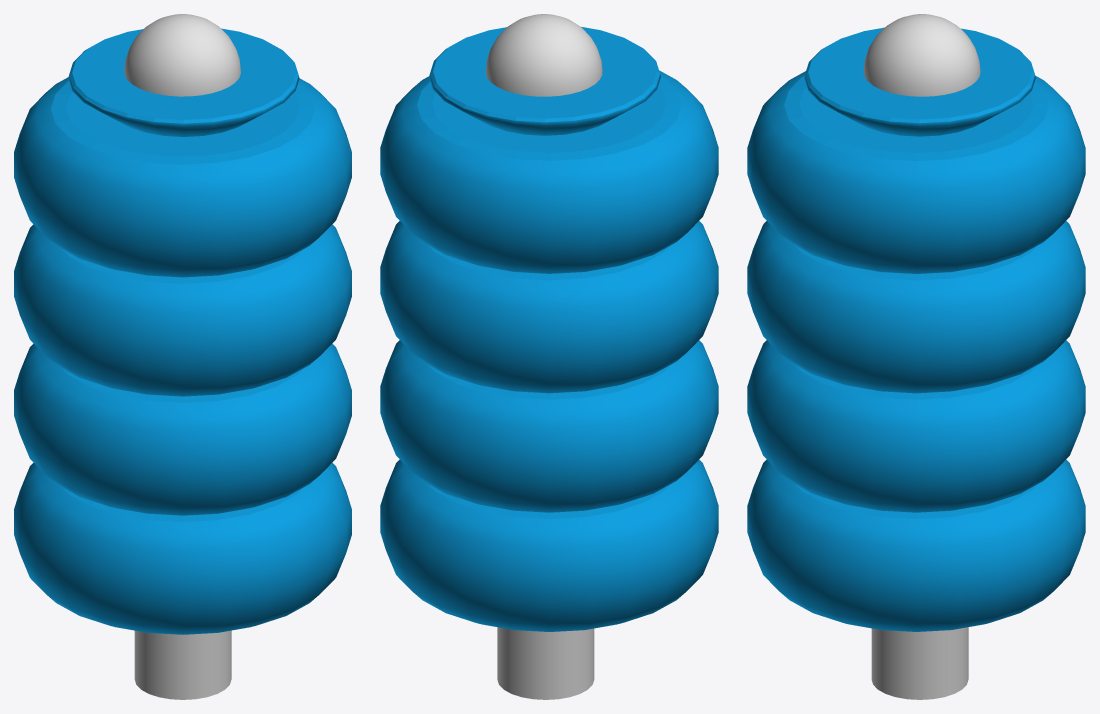
The model's file is Bumpybarrier.FBX.
3 views of the same model, side by side, from view 1: azimuth 30°, elevation 25°; view 2: azimuth 150°, elevation 25°; view 3: azimuth 270°, elevation 25° (orthographic).
Parts seen in each view (by area): view 1: Cylinder070, Cylinder071, Cylinder072, Cylinder073, Cylinder069, Sphere007, Cylinder068; view 2: Cylinder070, Cylinder072, Cylinder073, Cylinder071, Cylinder069, Sphere007, Cylinder068; view 3: Cylinder070, Cylinder073, Cylinder072, Cylinder071, Cylinder069, Sphere007, Cylinder068.
Boxes of the visible parts, box(x1,y1,x2,y2) form: Cylinder070: box(14, 77, 351, 277); Cylinder071: box(14, 224, 351, 396); Cylinder072: box(14, 343, 351, 515); Cylinder073: box(14, 462, 351, 634); Cylinder069: box(68, 28, 299, 136); Sphere007: box(124, 14, 240, 96); Cylinder068: box(134, 630, 231, 699); Cylinder070: box(380, 70, 718, 273); Cylinder072: box(380, 340, 718, 512); Cylinder073: box(380, 459, 718, 631); Cylinder071: box(380, 221, 718, 393); Cylinder069: box(429, 27, 660, 135); Sphere007: box(485, 14, 602, 96); Cylinder068: box(497, 627, 594, 699); Cylinder070: box(747, 71, 1085, 273); Cylinder073: box(747, 459, 1085, 631); Cylinder072: box(747, 340, 1085, 512); Cylinder071: box(747, 221, 1085, 393); Cylinder069: box(804, 27, 1035, 136); Sphere007: box(863, 14, 980, 96); Cylinder068: box(871, 627, 968, 699).
Bounding box in the file's own units: 70.62 × 152 × 70.62.
1 material, 1 textured.
